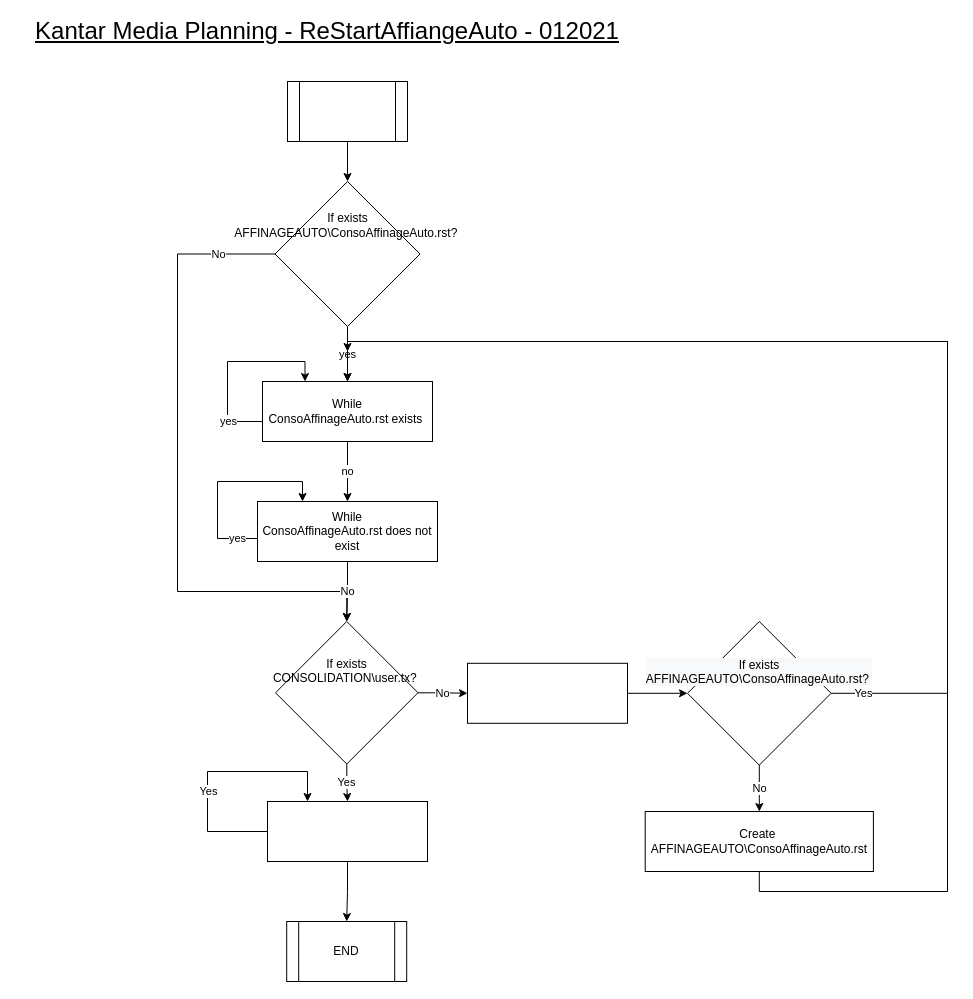
Image size: 973x999. Some labels were removed from this diagram. Each missing label, with the centre of its shape:
"Need to click on Start Button" belongs at point (547, 692).
"START" belongs at point (347, 111).
"While CONSOLIDATION\user.txt exists" belongs at point (347, 831).
